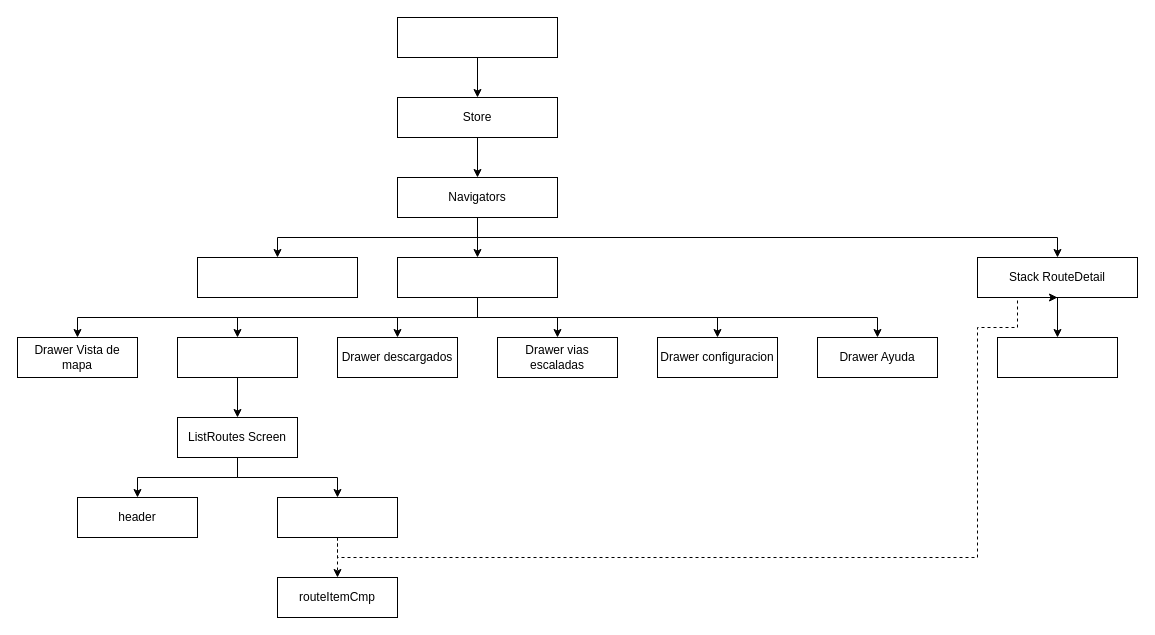
Some shapes in this 1155 by 635 pixel diagram are drawn without their labels. Here are the shapes that lost their labels. From the top down, the centre of each, then its label:
At point 477,37: "NativeBase".
At point 277,277: "Stack Login".
At point 477,277: "Stack HomeNav".
At point 237,357: "Drawer Vista de lista".
At point 1057,357: "RouteDetailScreen".
At point 337,517: "routesListComponent".
